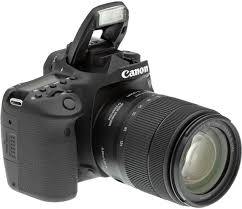camera: (6, 4, 240, 204)
